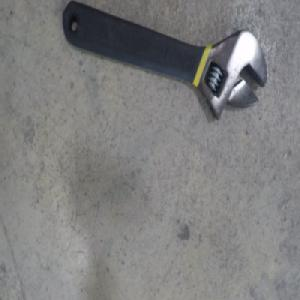AdjustableWrench: (61, 1, 267, 121)
